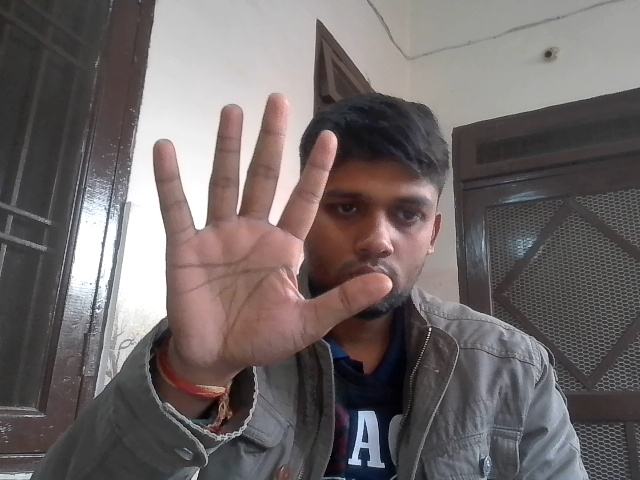Hello: (145, 87, 394, 376)
